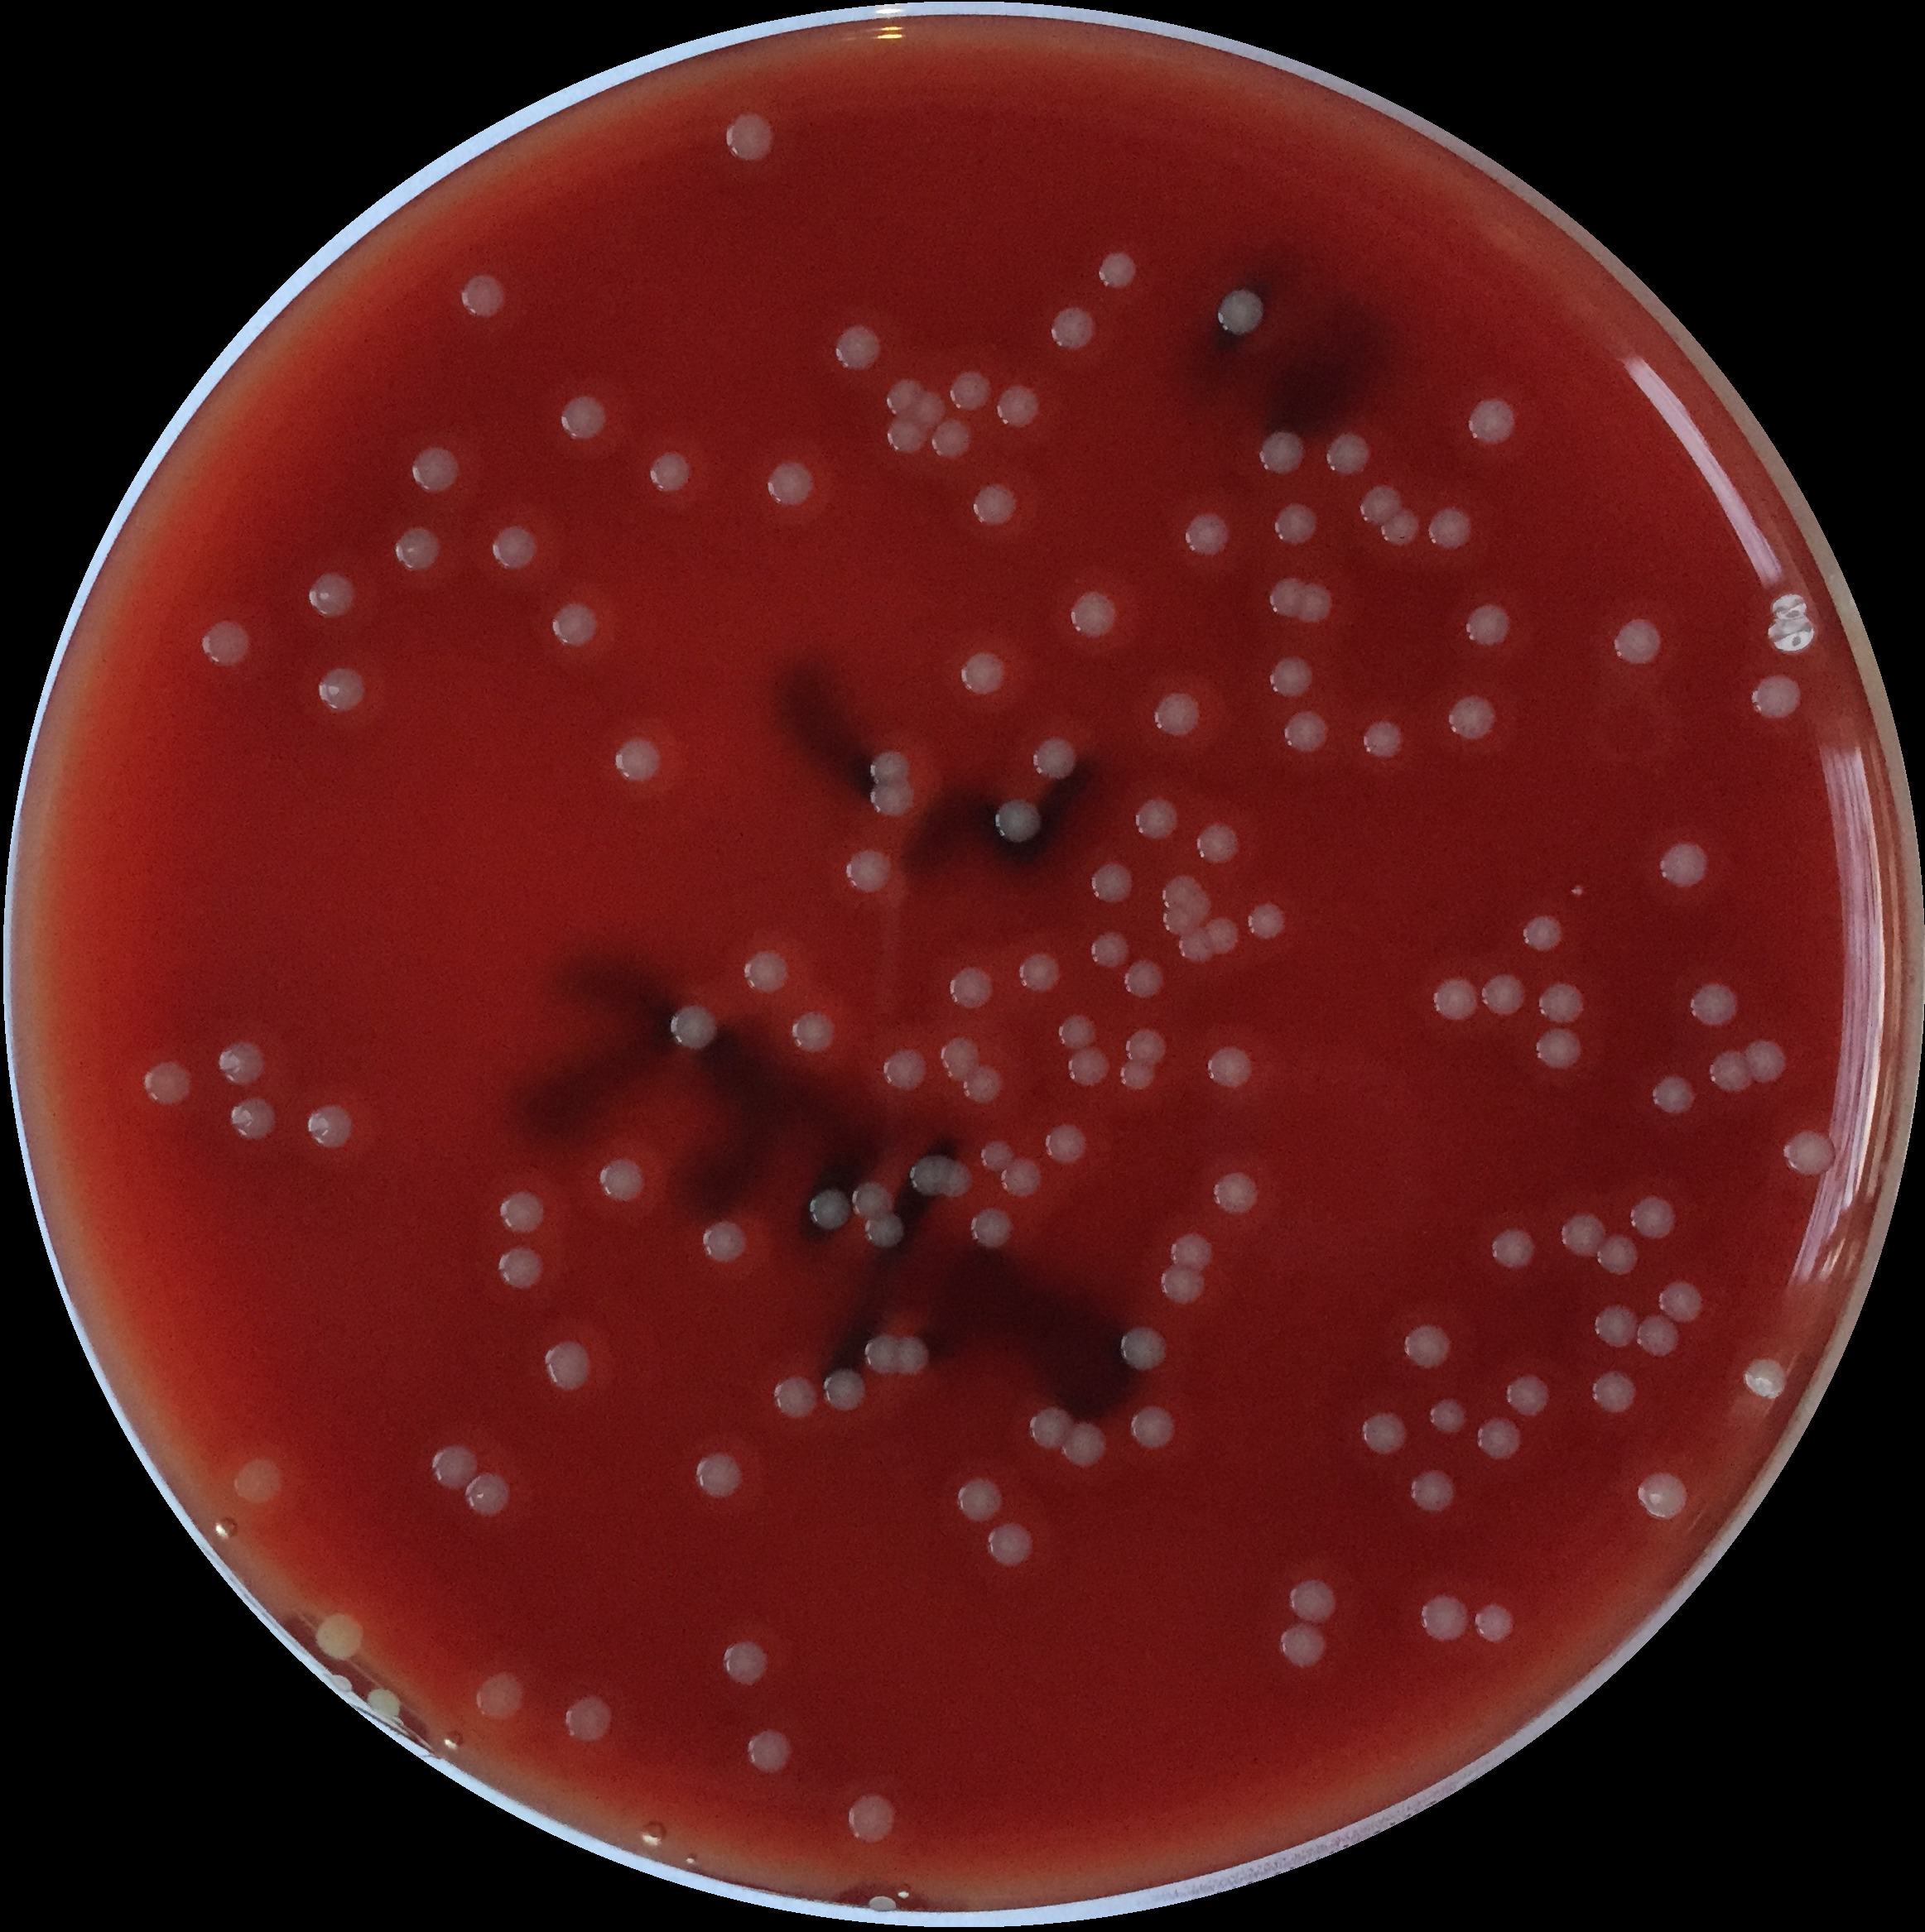sp21: (455, 264, 513, 335), (307, 1608, 370, 1662), (841, 841, 899, 899), (1065, 587, 1125, 643), (229, 1451, 286, 1511), (550, 393, 615, 444), (471, 1669, 529, 1726), (310, 659, 368, 716), (1028, 732, 1086, 788), (1629, 1470, 1691, 1523), (197, 615, 256, 670), (1782, 1121, 1835, 1181), (721, 109, 777, 164), (1611, 613, 1666, 670), (561, 1692, 615, 1749), (485, 518, 539, 575), (1416, 1592, 1472, 1645), (546, 599, 603, 652), (1148, 687, 1206, 739), (980, 1518, 1038, 1569), (393, 522, 446, 576), (610, 733, 663, 788), (1461, 395, 1518, 446), (1747, 672, 1803, 723), (1486, 1225, 1542, 1276), (541, 1340, 592, 1396), (407, 442, 464, 494), (139, 1056, 196, 1107), (1208, 286, 1266, 335), (846, 1791, 899, 1844), (497, 1188, 550, 1241), (303, 568, 356, 620), (992, 795, 1045, 848), (1655, 839, 1710, 890), (1130, 795, 1185, 846), (1024, 1403, 1079, 1454), (1285, 1574, 1340, 1625), (742, 1726, 797, 1777), (829, 324, 885, 374), (763, 457, 816, 508), (1255, 425, 1308, 476), (1479, 970, 1532, 1021), (991, 383, 1045, 432), (1446, 691, 1500, 740), (1202, 1042, 1257, 1091), (1400, 1322, 1454, 1371), (1631, 1310, 1685, 1359), (947, 961, 996, 1015), (1208, 1170, 1264, 1218), (224, 1093, 280, 1141), (1557, 1209, 1608, 1260), (1590, 1299, 1641, 1350), (1128, 1401, 1179, 1453), (1326, 427, 1375, 479), (1627, 1193, 1680, 1243), (1116, 1324, 1169, 1373), (717, 1639, 770, 1689), (968, 1204, 1021, 1253), (1276, 1620, 1331, 1668), (594, 1156, 649, 1204), (645, 450, 696, 499), (1532, 1021, 1583, 1070), (1655, 1278, 1706, 1327), (1740, 1352, 1791, 1401), (954, 1474, 1003, 1525), (215, 1037, 266, 1086), (1278, 709, 1331, 756), (1689, 980, 1742, 1028), (427, 1442, 479, 1490), (903, 1153, 955, 1200), (786, 1008, 839, 1056), (301, 1102, 354, 1149), (1269, 502, 1324, 548), (1585, 1368, 1639, 1414), (1472, 1416, 1527, 1461), (970, 479, 1019, 529), (1047, 305, 1098, 353), (1183, 511, 1234, 559), (1354, 481, 1405, 529), (1430, 977, 1481, 1024), (1357, 1410, 1408, 1458), (1015, 950, 1067, 998), (1423, 504, 1475, 550), (1535, 978, 1588, 1024), (1058, 1423, 1111, 1468), (668, 1005, 723, 1049), (1193, 820, 1243, 867), (1648, 1072, 1698, 1119), (1592, 1229, 1639, 1278), (1504, 1370, 1553, 1417), (497, 1245, 546, 1292), (740, 948, 790, 996), (959, 647, 1008, 695), (1264, 654, 1315, 700), (769, 1373, 820, 1419), (945, 367, 992, 414), (1086, 925, 1133, 973), (820, 1366, 867, 1414), (1461, 603, 1511, 649), (1158, 1260, 1208, 1306), (462, 1472, 511, 1518), (693, 1451, 742, 1497), (1706, 1049, 1758, 1093), (807, 1186, 855, 1232), (1044, 1119, 1089, 1167), (1088, 862, 1137, 906), (869, 776, 918, 820), (1516, 913, 1567, 955), (698, 1220, 749, 1262), (929, 414, 975, 460), (1743, 1038, 1789, 1084), (1426, 1394, 1472, 1440), (938, 1035, 984, 1081), (883, 1047, 929, 1093), (1167, 1227, 1215, 1271), (1407, 1468, 1454, 1512), (1470, 1602, 1518, 1646), (866, 747, 915, 790), (850, 1179, 899, 1220), (1118, 961, 1169, 999), (904, 388, 948, 432), (1267, 575, 1310, 620), (1359, 717, 1405, 760), (1243, 903, 1289, 945), (1067, 1047, 1114, 1088), (1296, 582, 1338, 626), (1123, 1024, 1167, 1066), (885, 377, 925, 423), (959, 1065, 1005, 1105), (862, 1331, 901, 1378), (1054, 1010, 1102, 1049), (1095, 249, 1139, 289), (1174, 925, 1218, 966), (890, 1334, 931, 1378), (862, 1211, 904, 1252), (1000, 1158, 1042, 1199), (1379, 508, 1423, 546), (885, 418, 931, 455), (1202, 917, 1243, 957), (1155, 903, 1200, 936), (1116, 1058, 1160, 1091), (941, 1158, 973, 1204), (977, 1137, 1015, 1172), (1158, 874, 1200, 906), (1567, 881, 1587, 901)
